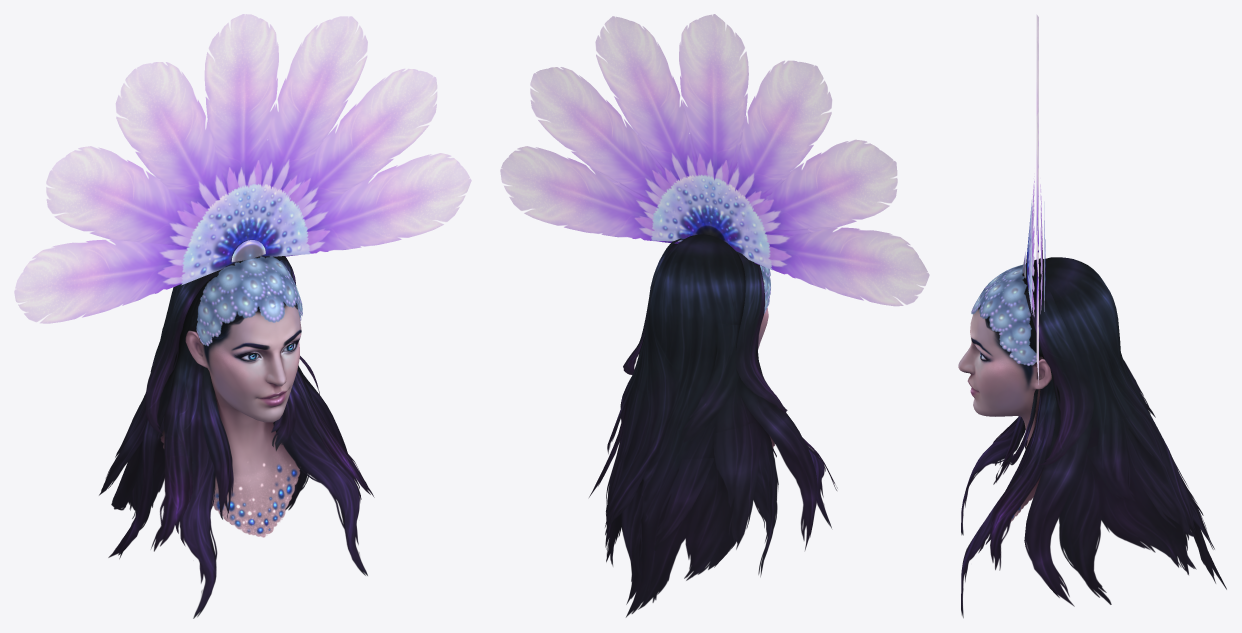
Rendered from asset.gltf.
The picture shows the model from 3 angles, left to right: view 1: azimuth 30°, elevation 25°; view 2: azimuth 150°, elevation 25°; view 3: azimuth 270°, elevation 25°; orthographic projection. The views are drawn at different scales.
Visible parts, largest first — view 1: crown, hair, head; view 2: crown, hair; view 3: hair, head, crown.
Boxes of the visible parts, box(x1,y1,x2,y2) form: crown: box(14, 14, 471, 346); hair: box(99, 256, 374, 618); head: box(160, 261, 301, 537); crown: box(500, 14, 929, 313); hair: box(589, 234, 837, 617); hair: box(961, 257, 1226, 618); head: box(958, 277, 1051, 522); crown: box(971, 14, 1045, 384).
Size of the model in its own units: 172 by 206 by 90.71.
1 material, 1 textured.
